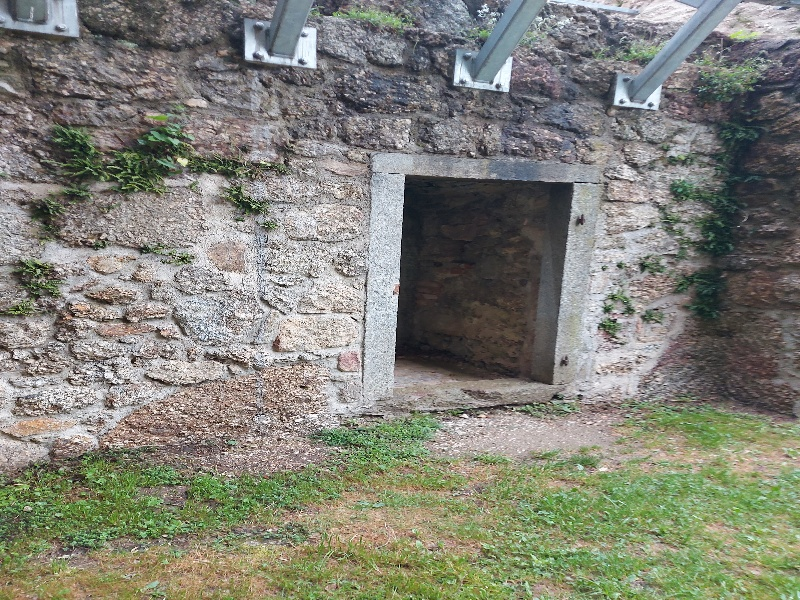door1: (366, 139, 599, 428)
